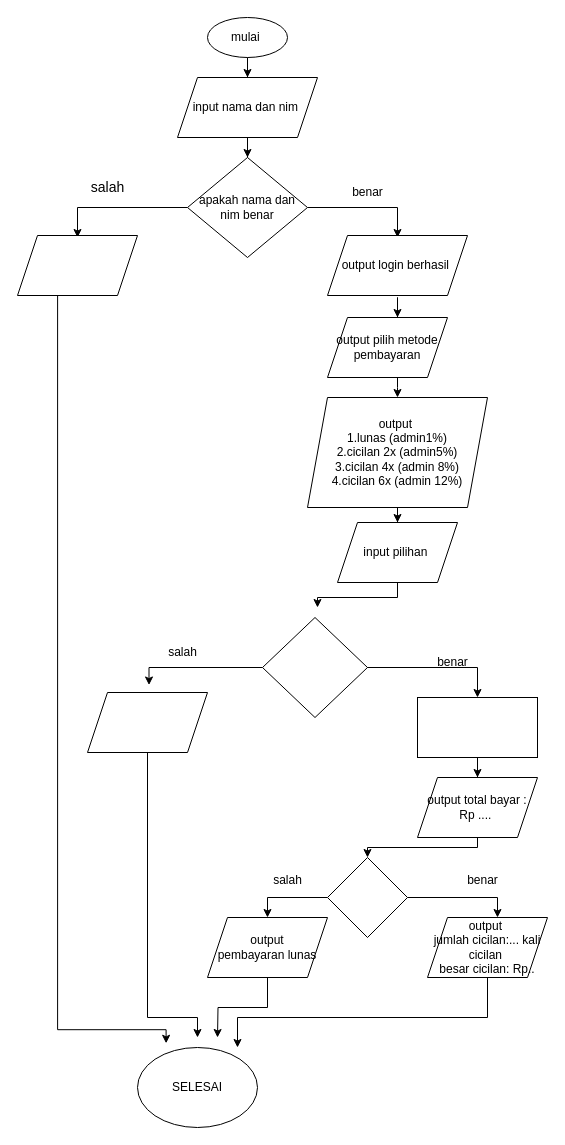
Image size: 565x1145. Some labels were removed from this diagram. The centre of each missing label's shape, as x and y in pixels:
apakah 1,2,3,4: pixel 315 667
cicilan >1: pixel 367 897
output login gagal: pixel 77 265
output pilih 1 sampai 4 saja: pixel 147 722
total = (ukt*admin): pixel 477 727
